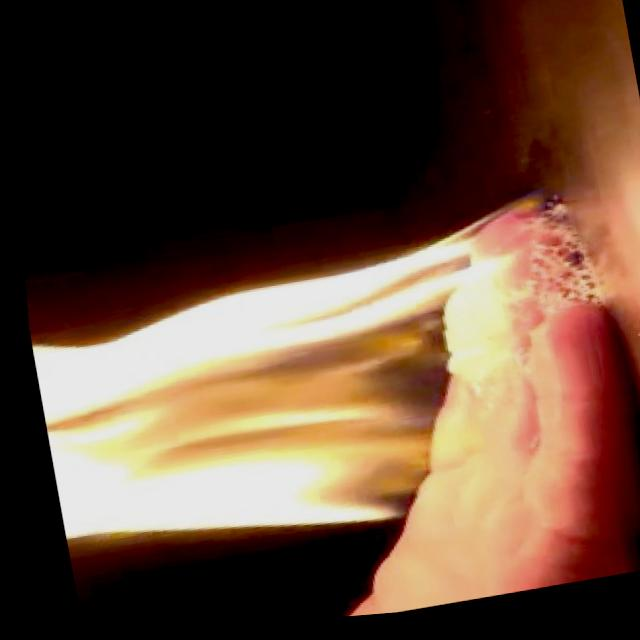helmet: (17, 212, 554, 588)
